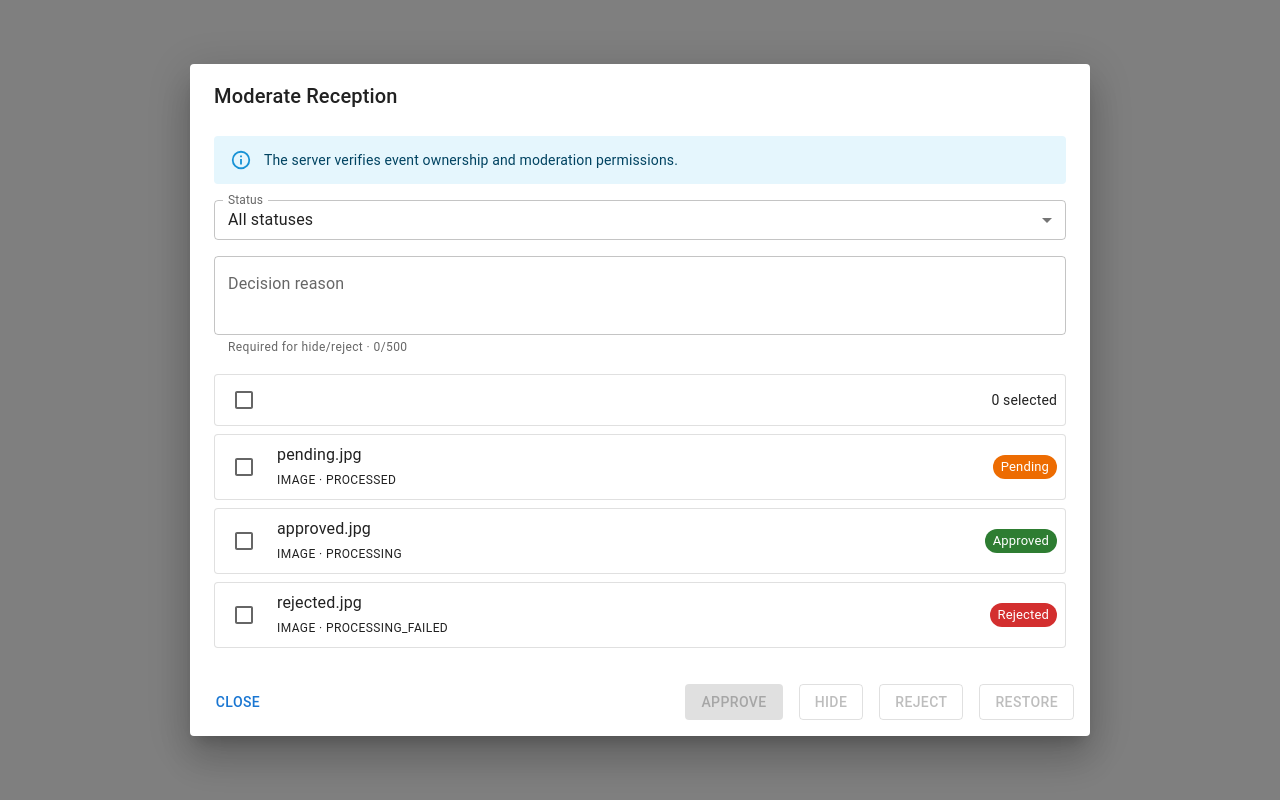
Test: ModerationPanel › confirms a single approve and scopes the action to event, gallery and media
The image size is (1280, 800).
Check: the text "pending.jpg" is shown, box [277,445,362,464]
Click the checkbox named "Select pending.jpg".
click(244, 467)  # box [232,455,256,479]
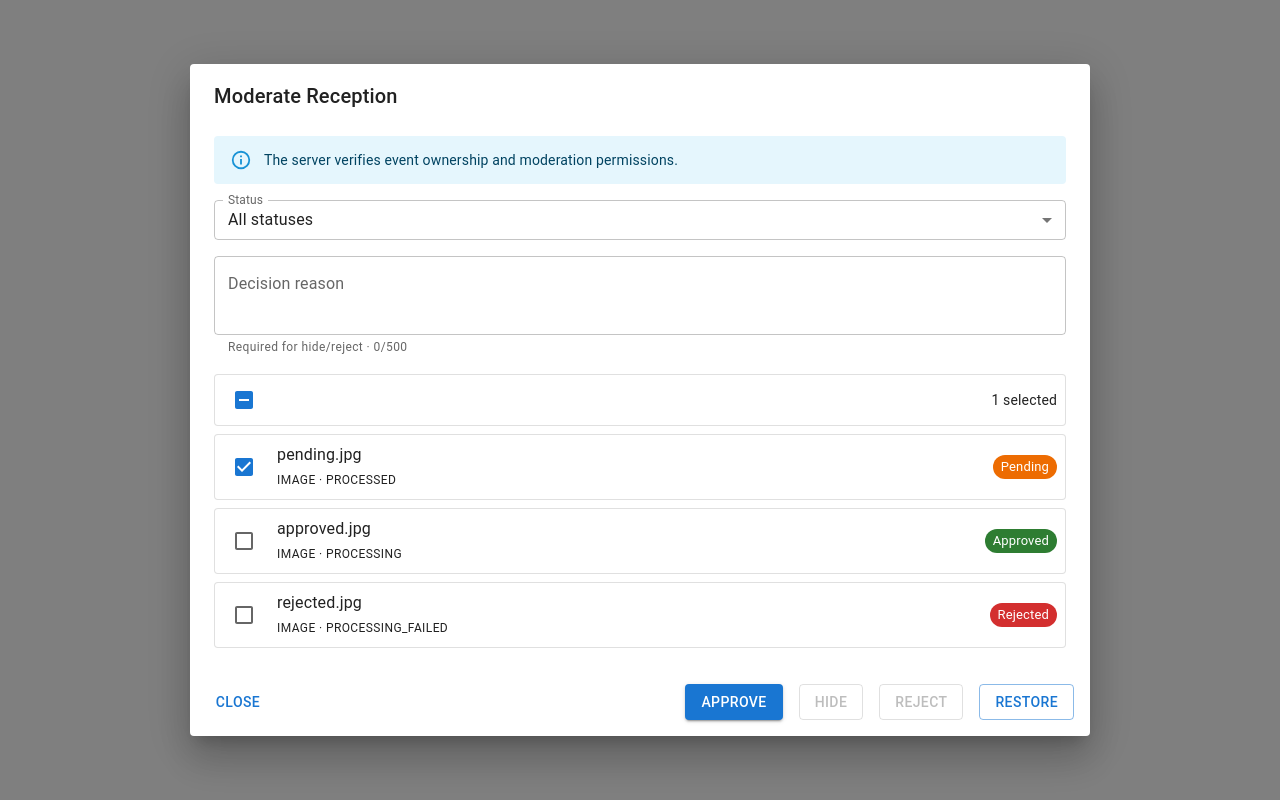
Click the button "Approve".
click(734, 702)  # box [685,684,783,720]
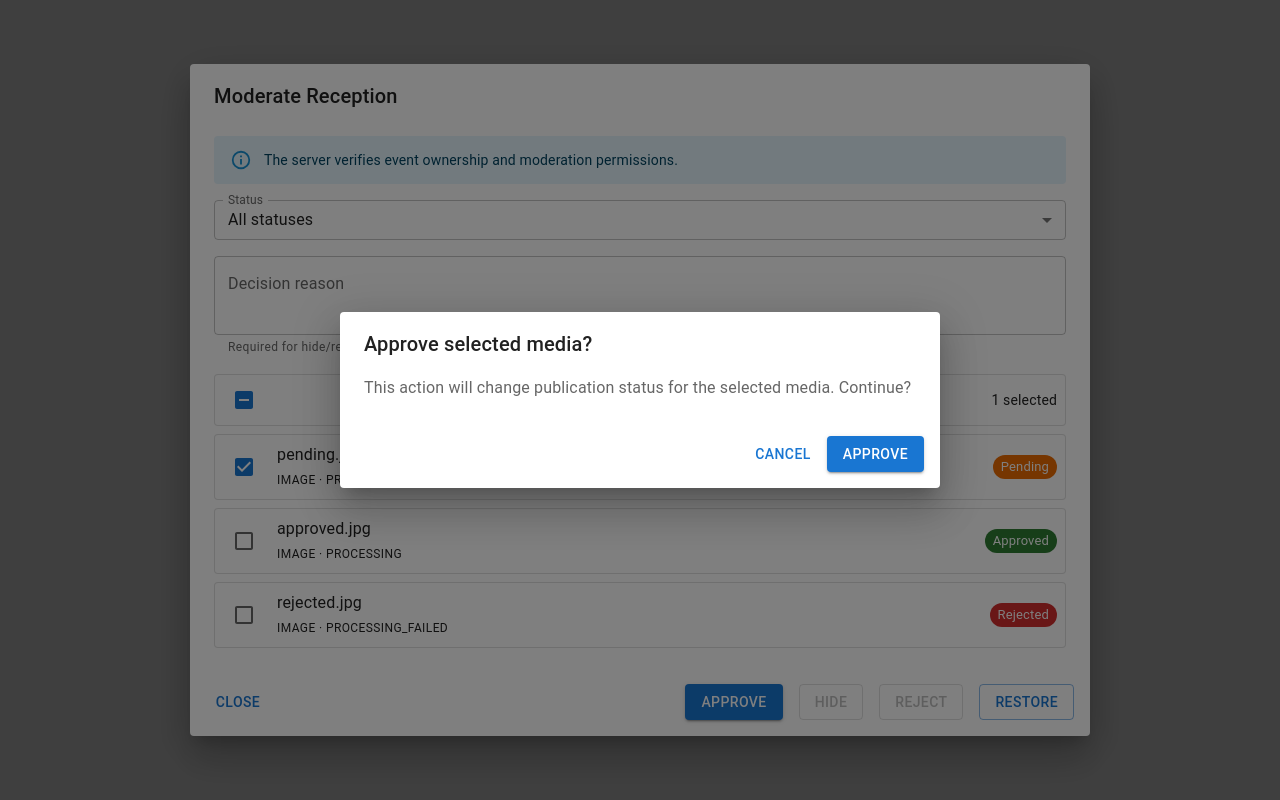
Click the button "Approve".
click(875, 454)  # box [827,436,924,472]
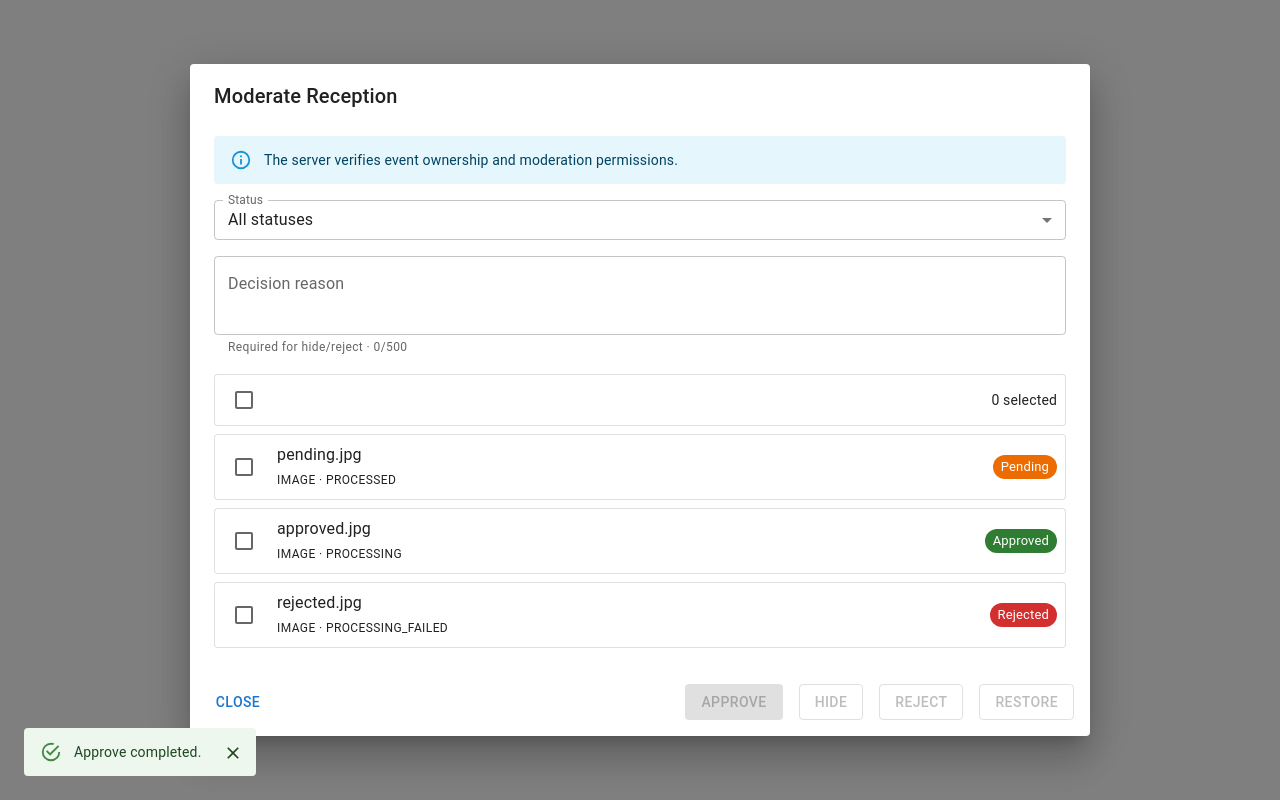
Check: the text "Approve completed." is shown, box [74,744,202,760]
